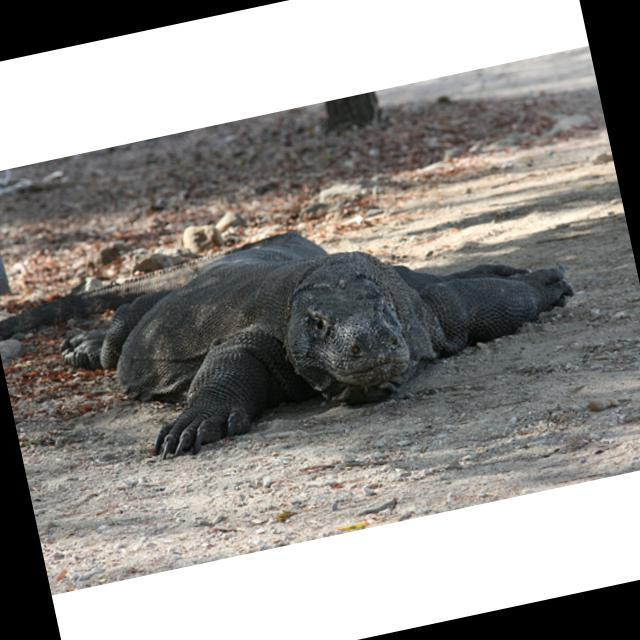KomodoDragon: (0, 173, 589, 487)
